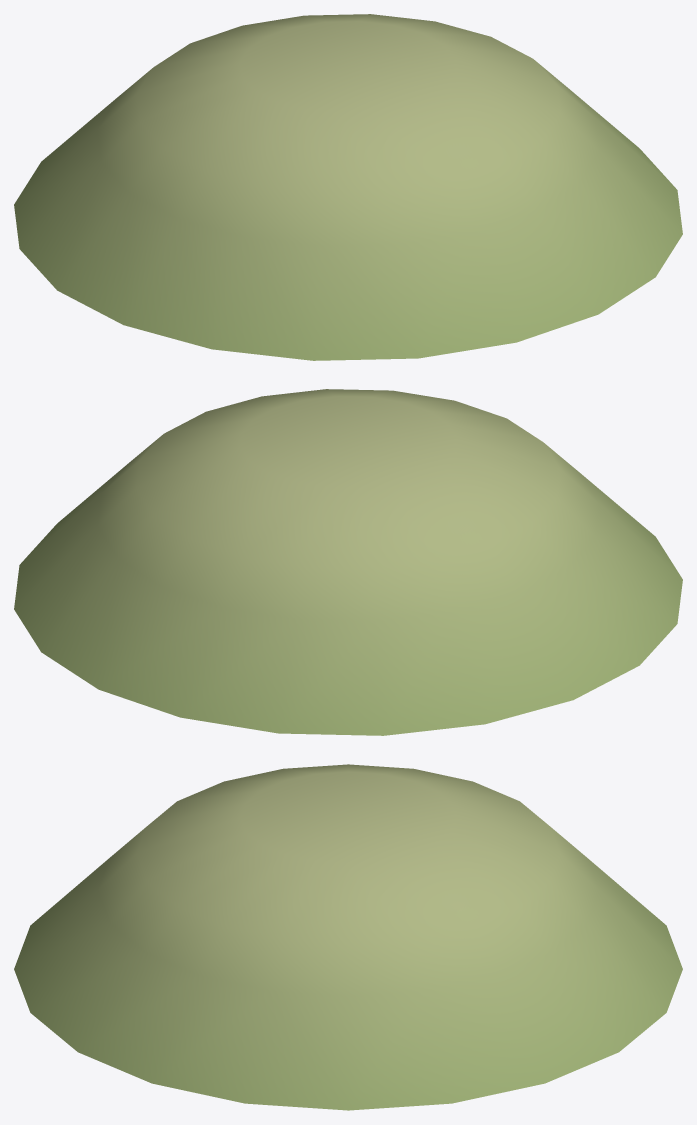
Rendered from hill.glb.
The picture shows the model from 3 angles, top to bottom: view 1: azimuth 30°, elevation 25°; view 2: azimuth 150°, elevation 25°; view 3: azimuth 270°, elevation 25°; orthographic projection.
Visible parts, largest first — view 1: hill; view 2: hill; view 3: hill.
Part boxes in pixels (<box>): hill: <box>14,14,682,360</box>; hill: <box>14,389,682,735</box>; hill: <box>14,764,682,1110</box>.
Bounding box in the file's own units: 1 × 0.25 × 1.
